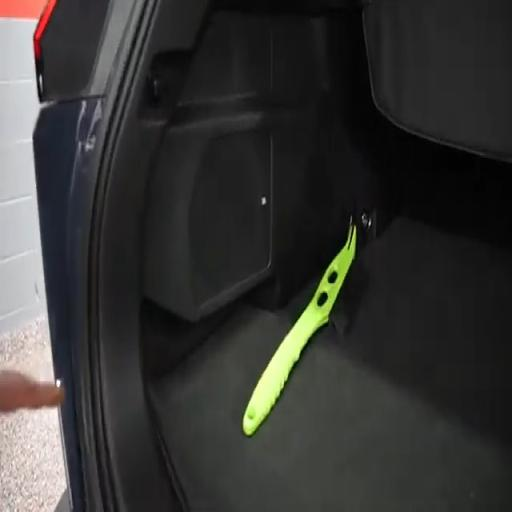trunk: (141, 10, 511, 511), (150, 218, 511, 510)
